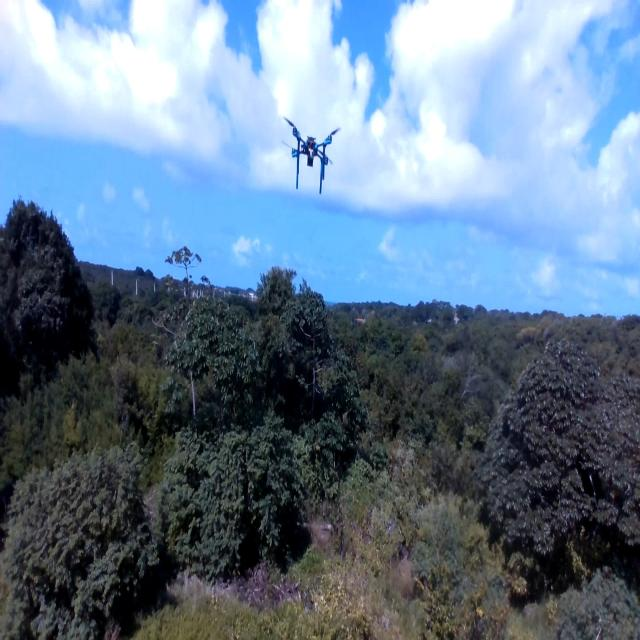-uav-: (278, 102, 348, 214)
